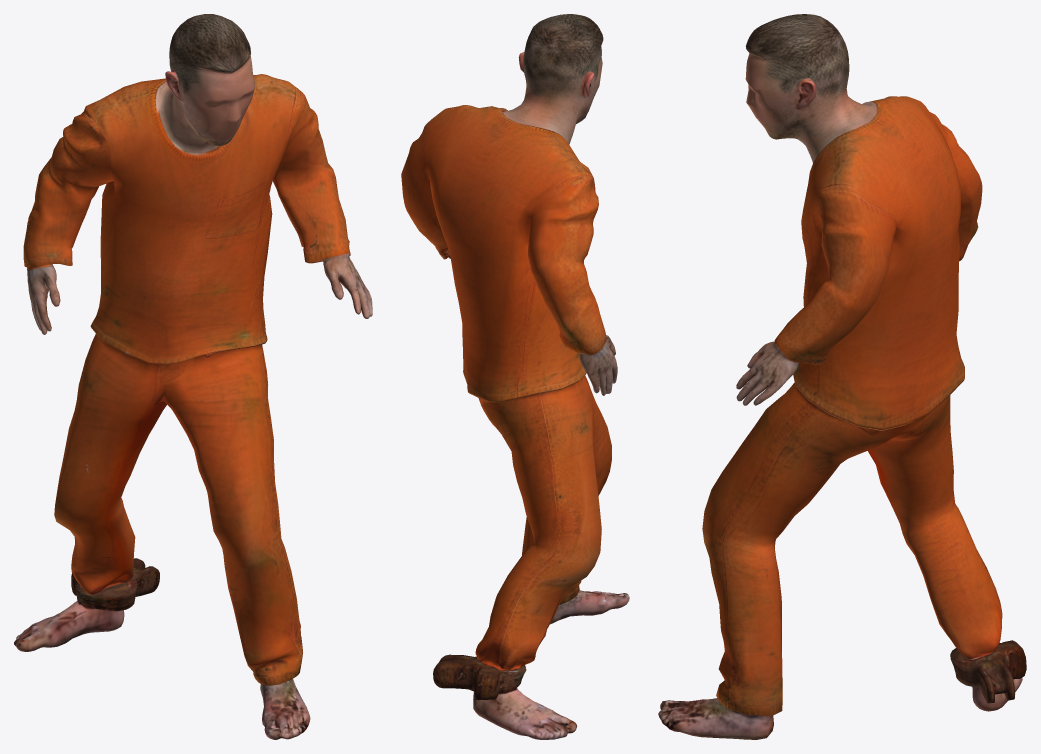
File: Mainrole_Idle.fbx
The picture shows the model from 3 angles, left to right: view 1: azimuth 30°, elevation 25°; view 2: azimuth 150°, elevation 25°; view 3: azimuth 270°, elevation 25°; orthographic projection. The views are drawn at different scales.
Visible parts, largest first — view 1: af86211b_3d41_43a3_855a_3dc9b63ed515.001; view 2: af86211b_3d41_43a3_855a_3dc9b63ed515.001; view 3: af86211b_3d41_43a3_855a_3dc9b63ed515.001.
Boxes of the visible parts, x1,y1,x2,y2 form: af86211b_3d41_43a3_855a_3dc9b63ed515.001: (14, 14, 372, 739); af86211b_3d41_43a3_855a_3dc9b63ed515.001: (401, 14, 629, 739); af86211b_3d41_43a3_855a_3dc9b63ed515.001: (658, 14, 1026, 739).
Size of the model in its own units: 185 by 219 by 457.
